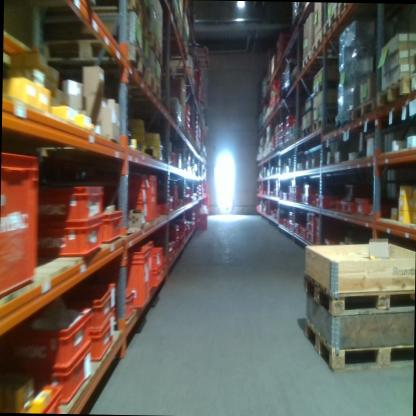pallet: (33, 34, 148, 90), (302, 317, 414, 373), (303, 268, 415, 316), (44, 1, 149, 37), (375, 70, 411, 113), (350, 96, 377, 125), (312, 114, 339, 134), (323, 4, 338, 37), (151, 27, 163, 65), (147, 73, 161, 102), (311, 29, 324, 60), (311, 77, 337, 92), (408, 68, 416, 98), (300, 123, 312, 141), (338, 4, 352, 19), (301, 49, 311, 70)
small_load_carrier: (0, 152, 40, 293), (37, 213, 102, 264), (31, 304, 87, 363), (31, 348, 89, 401), (38, 180, 102, 225), (123, 240, 153, 313), (71, 277, 114, 326), (76, 316, 114, 362), (5, 381, 61, 410), (100, 210, 121, 246), (113, 292, 133, 325), (121, 173, 149, 195), (123, 188, 148, 209), (144, 244, 161, 270), (124, 204, 145, 224), (357, 196, 374, 216), (151, 172, 157, 218), (153, 262, 161, 280), (345, 199, 355, 212)
